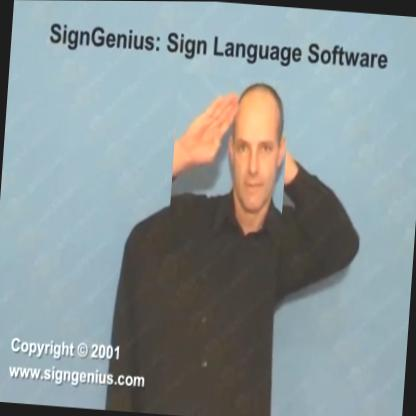Hello: (169, 72, 292, 247)
